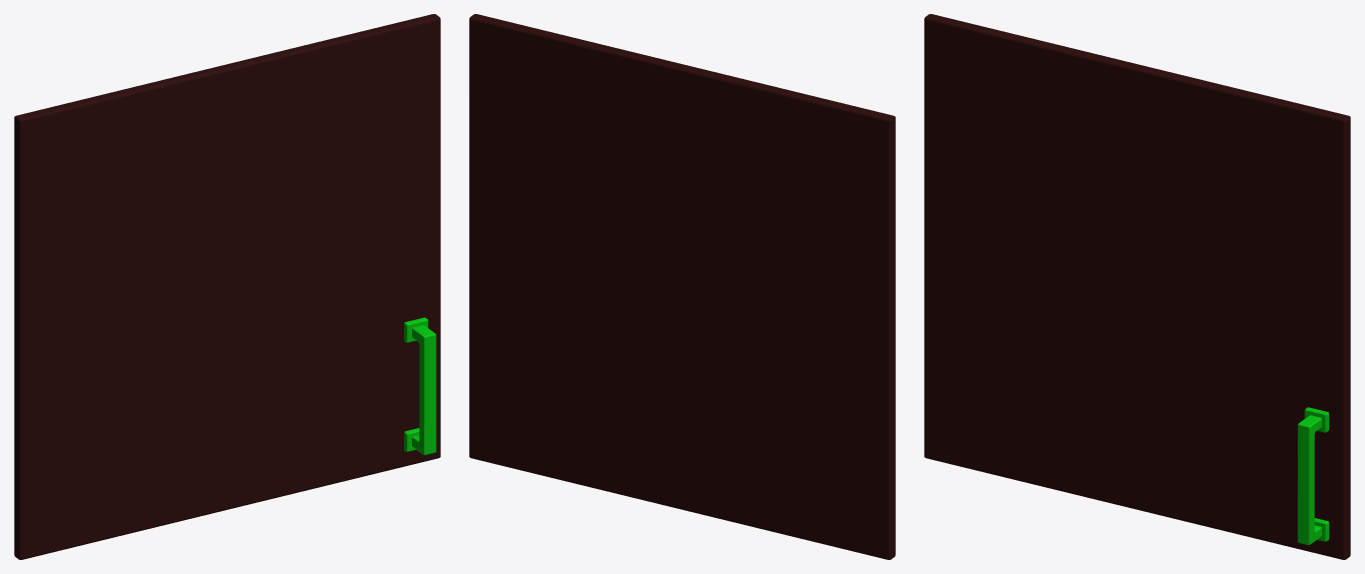
File: kuchnia_02_szafka_wiszaca_drzwi 1.fbx
3 views of the same model, side by side, from view 1: azimuth 30°, elevation 25°; view 2: azimuth 150°, elevation 25°; view 3: azimuth 330°, elevation 25° (orthographic).
Visible parts, largest first — view 1: Mesh; view 2: Mesh; view 3: Mesh.
Part boxes in pixels (x1,y1,x2,y2): Mesh: (14,14,440,559); Mesh: (469,14,895,559); Mesh: (924,14,1350,559).
Size of the model in its own units: 100 by 99.92 by 9.01.
